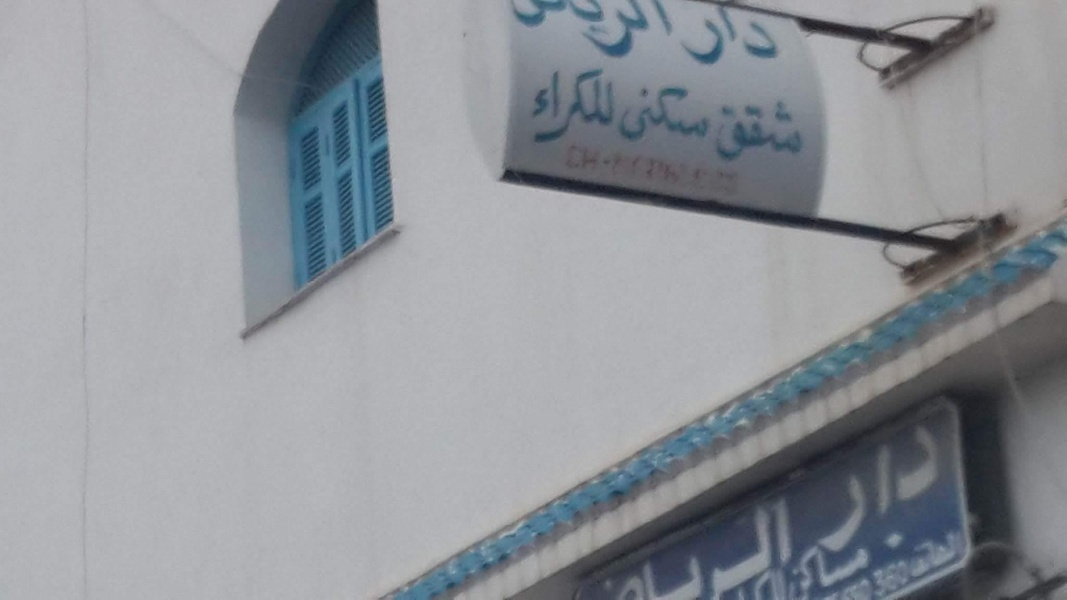text: (817, 415, 832, 560), (833, 415, 848, 560), (849, 415, 864, 560), (865, 415, 880, 560), (881, 415, 896, 560), (897, 415, 912, 560), (913, 415, 928, 560), (929, 415, 944, 560), (802, 415, 816, 560), (609, 495, 624, 598), (625, 495, 640, 598), (641, 495, 656, 598), (657, 495, 672, 598), (673, 495, 688, 598), (689, 495, 704, 598), (705, 495, 720, 598), (721, 495, 736, 598), (737, 495, 752, 598), (753, 495, 768, 598), (769, 495, 784, 598), (545, 67, 560, 148), (561, 67, 576, 148), (577, 67, 592, 148), (593, 67, 608, 148), (721, 93, 736, 173), (737, 93, 752, 173), (753, 93, 768, 173), (769, 93, 784, 173), (785, 93, 800, 173), (945, 415, 953, 560), (530, 67, 544, 148), (785, 526, 800, 600), (801, 526, 816, 600), (817, 526, 832, 600), (833, 526, 848, 600), (849, 526, 864, 600), (625, 81, 640, 154), (641, 81, 656, 154), (657, 81, 672, 154), (673, 81, 688, 154), (689, 81, 704, 154), (689, 2, 704, 74), (705, 2, 720, 74), (721, 2, 736, 74), (737, 2, 752, 74), (753, 2, 768, 74), (769, 2, 784, 74), (609, 67, 622, 148), (513, 1, 528, 64), (529, 1, 544, 64), (545, 1, 560, 64), (561, 1, 576, 64), (577, 1, 592, 64), (593, 1, 608, 64), (609, 1, 624, 64), (625, 1, 640, 64), (641, 1, 656, 64), (657, 1, 672, 64), (673, 1, 688, 64), (913, 519, 928, 581), (929, 519, 944, 581), (945, 519, 960, 581), (577, 143, 592, 204), (593, 143, 608, 204), (609, 143, 624, 204), (625, 143, 640, 204), (641, 143, 656, 204), (657, 143, 672, 204), (673, 143, 688, 204), (689, 143, 704, 204), (705, 143, 720, 204), (721, 143, 736, 204), (865, 526, 877, 600), (785, 495, 792, 598), (881, 553, 896, 599), (897, 553, 912, 599), (679, 2, 688, 74), (705, 81, 712, 154), (961, 519, 969, 581), (568, 143, 576, 204), (870, 553, 880, 599), (604, 495, 608, 598), (801, 93, 806, 173), (779, 526, 784, 600), (737, 143, 743, 204), (689, 1, 694, 64), (907, 519, 912, 581), (508, 1, 512, 64), (717, 93, 720, 173), (623, 81, 624, 154), (785, 2, 786, 74), (913, 553, 914, 599)
